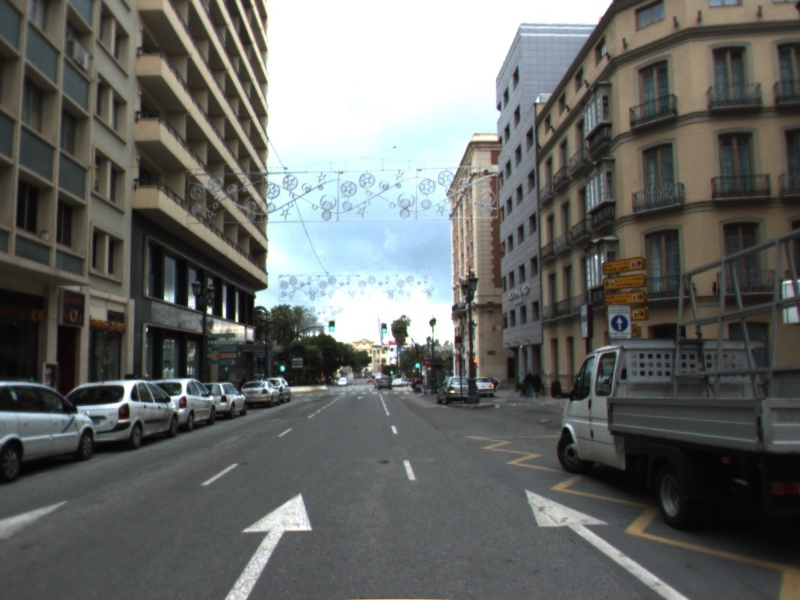STRAIGHT: (520, 485, 695, 600), (219, 487, 315, 600)
